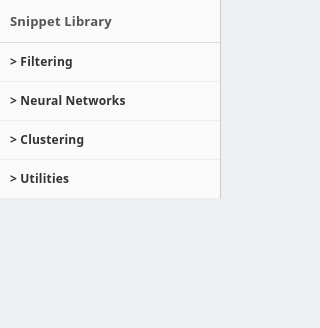
SnippetLibrary › expands a category when clicked
The image size is (320, 328).
Note: Click "Filtering"
Click the text "> Filtering" at (110, 63), box [0,43,220,82]
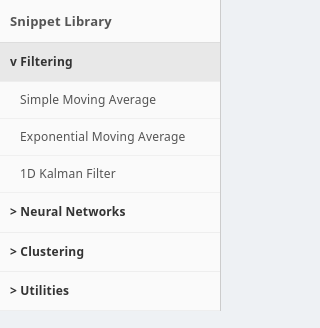
Expected: the text "Simple Moving Average" is shown, [0,82,220,119]
Expected: the text "Exponential Moving Average" is shown, [0,119,220,156]
Expected: the text "1D Kalman Filter" is shown, [0,156,220,194]
